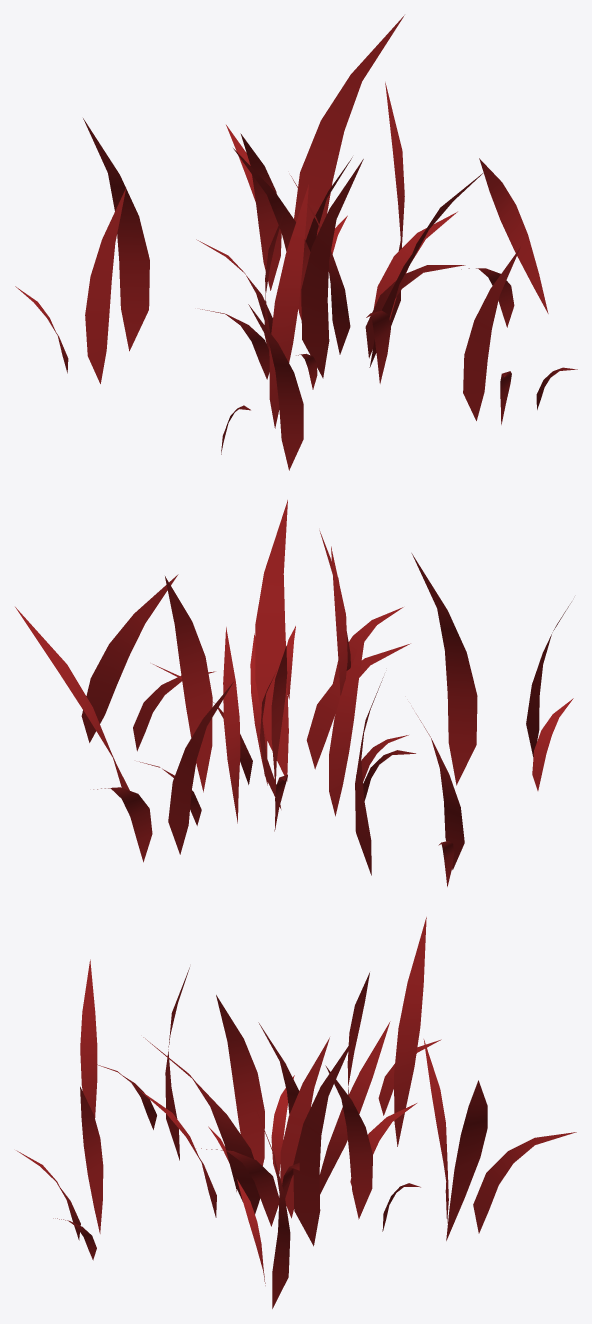
Rendered from Spacegrass_A.fbx.
3 views of the same model, one above another, from view 1: azimuth 30°, elevation 25°; view 2: azimuth 150°, elevation 25°; view 3: azimuth 270°, elevation 25° (orthographic). The views are drawn at different scales.
Parts seen in each view (by area): view 1: Plane014; view 2: Plane014; view 3: Plane014.
Part boxes in pixels (x1,y1,x2,y2): Plane014: [15, 15, 577, 470]; Plane014: [15, 500, 573, 886]; Plane014: [16, 917, 576, 1308].
Size of the model in its own units: 202 by 101 by 237.
